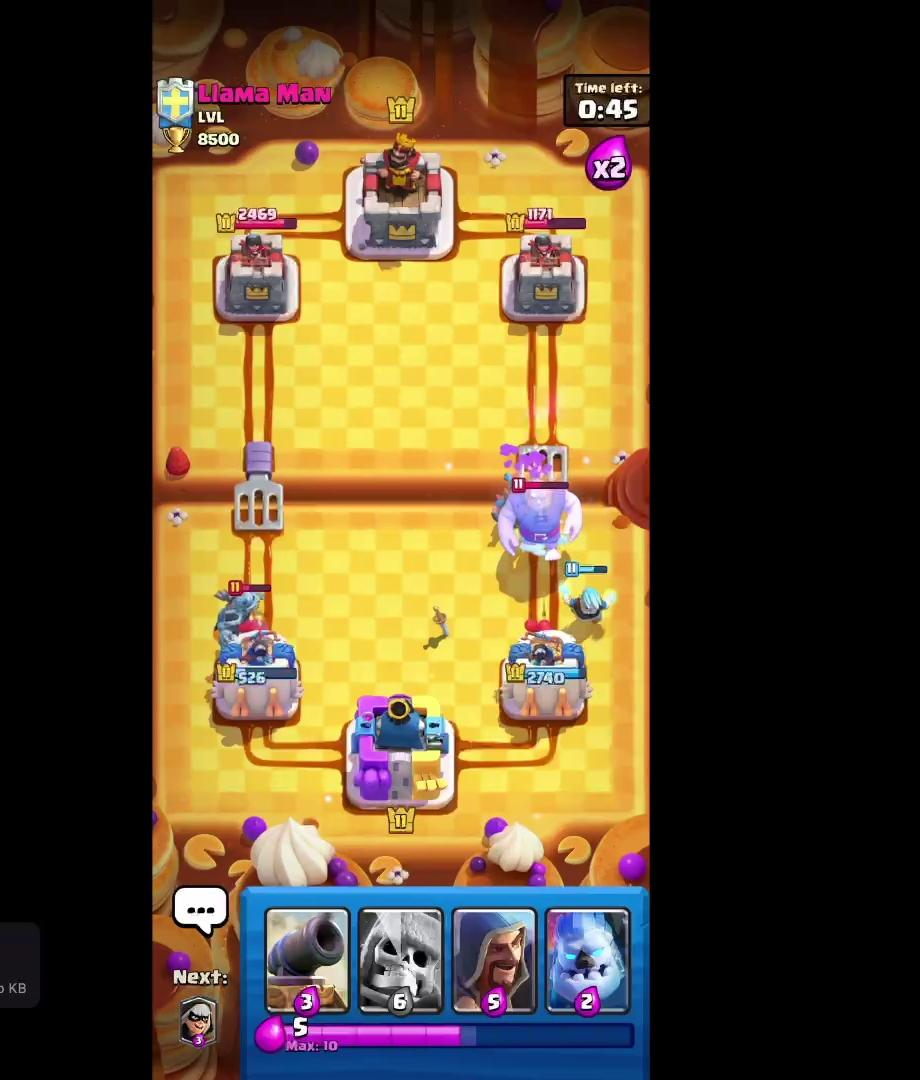Giant: (496, 473, 585, 561)
